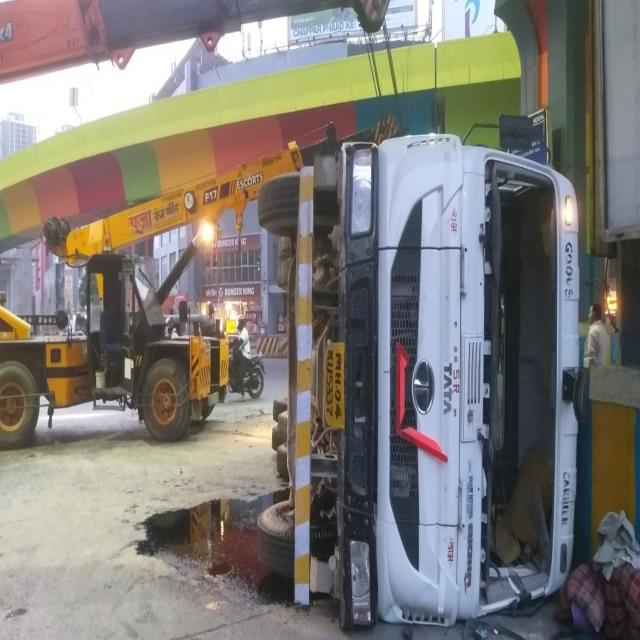accident: (258, 133, 579, 629)
bus: (0, 142, 301, 448)
